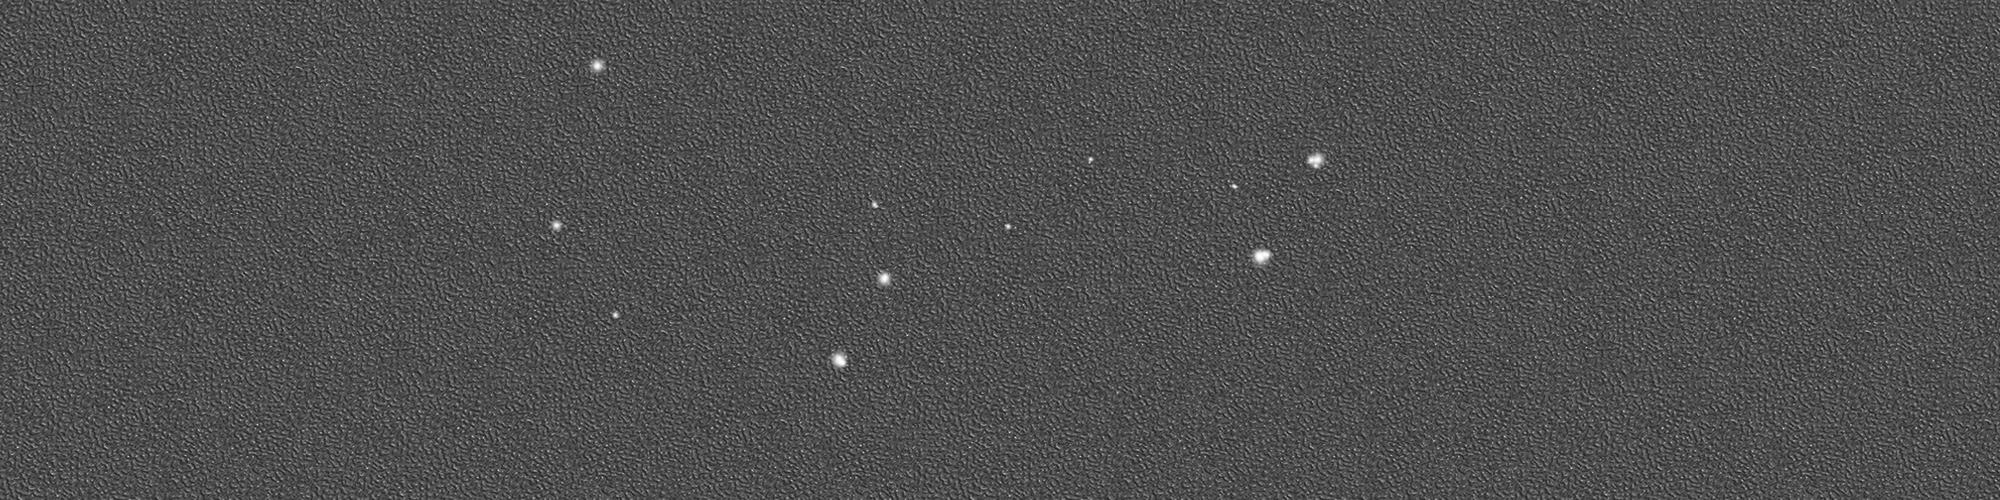Particles: (823, 351, 857, 370), (587, 55, 610, 79), (1304, 152, 1327, 173), (1249, 246, 1273, 264), (871, 270, 892, 290), (548, 219, 564, 237), (1084, 151, 1098, 166), (1226, 181, 1241, 194), (610, 304, 620, 321), (1000, 221, 1014, 233), (872, 198, 883, 212)
